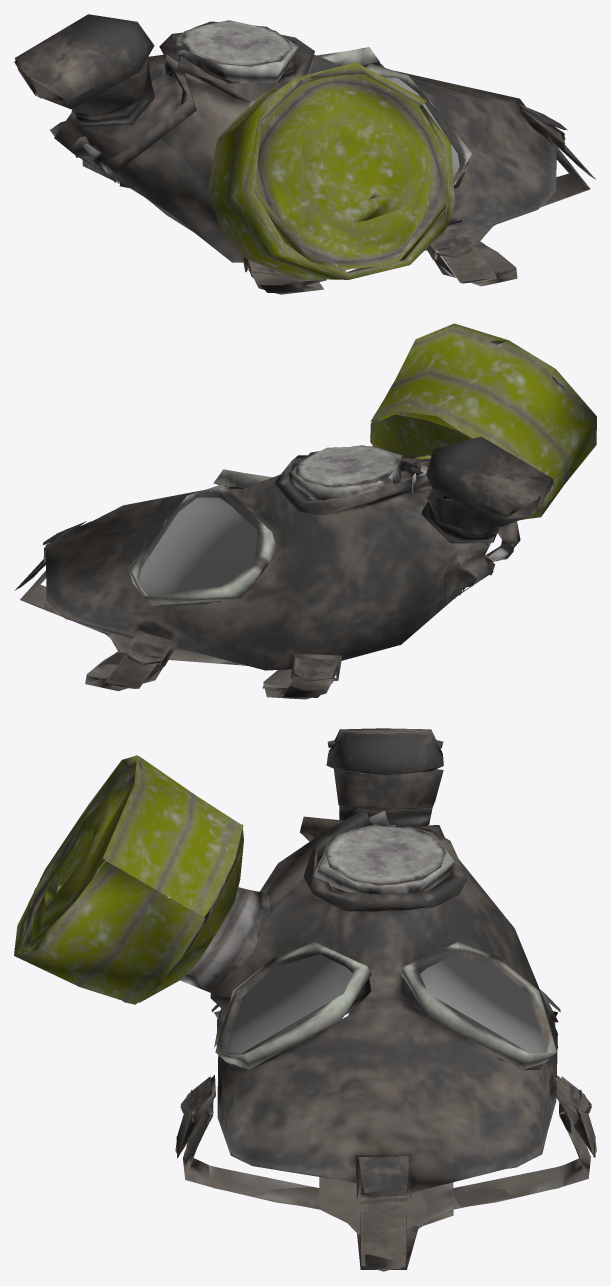
File: GasMaskPMK1_Ground.fbx
3 views of the same model, one above another, from view 1: azimuth 30°, elevation 25°; view 2: azimuth 150°, elevation 25°; view 3: azimuth 270°, elevation 25° (orthographic). The views are drawn at different scales.
Parts seen in each view (by area): view 1: PMK-1 Gas Mask; view 2: PMK-1 Gas Mask; view 3: PMK-1 Gas Mask.
Part boxes in pixels (bbox=[...]): PMK-1 Gas Mask: bbox=[14, 14, 595, 294]; PMK-1 Gas Mask: bbox=[14, 323, 596, 699]; PMK-1 Gas Mask: bbox=[14, 728, 596, 1271].
Size of the model in its own units: 0.194 by 0.0999 by 0.1633.
